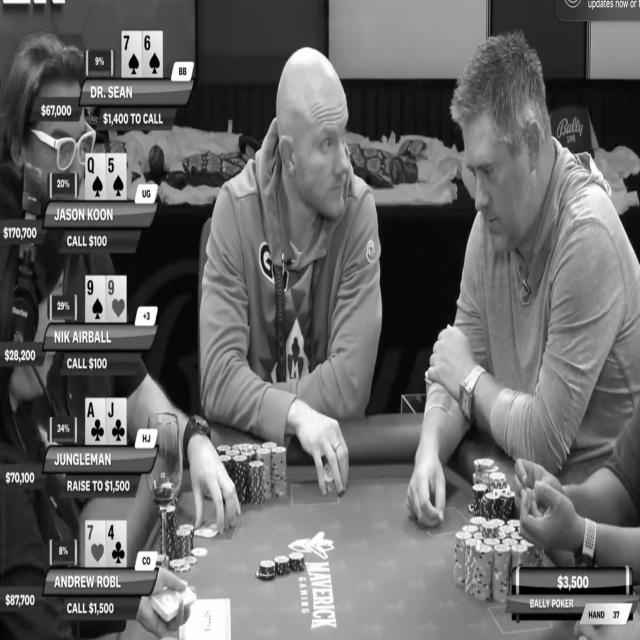4C: (107, 520, 125, 567)
5S: (106, 152, 126, 200)
6S: (143, 32, 162, 79)
7H: (86, 520, 106, 567)
7S: (122, 31, 142, 78)
9H: (107, 276, 126, 322)
9S: (86, 276, 105, 323)
AC: (86, 399, 106, 445)
JC: (107, 399, 126, 444)
QS: (86, 154, 106, 200)
